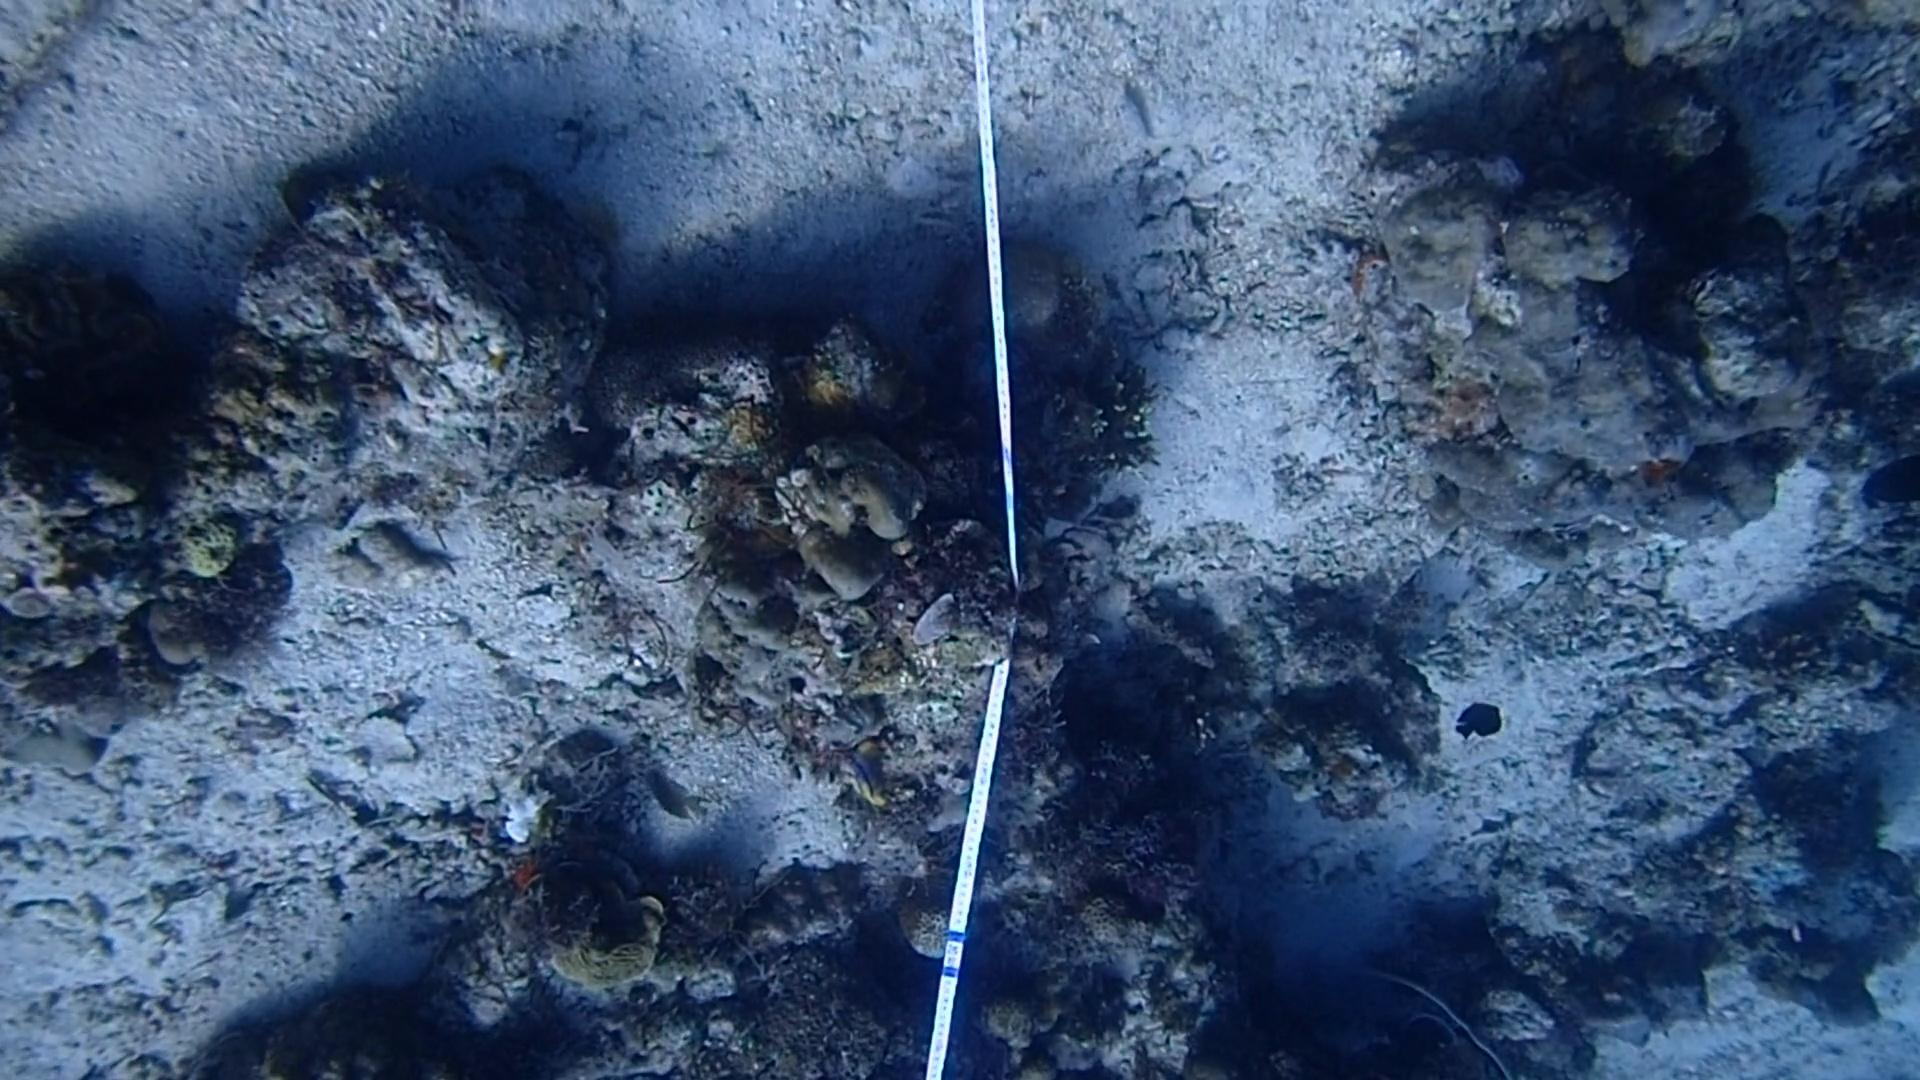Dark Fish: (1861, 450, 1920, 520), (1447, 694, 1509, 756)
Light Fish: (633, 771, 709, 829)
